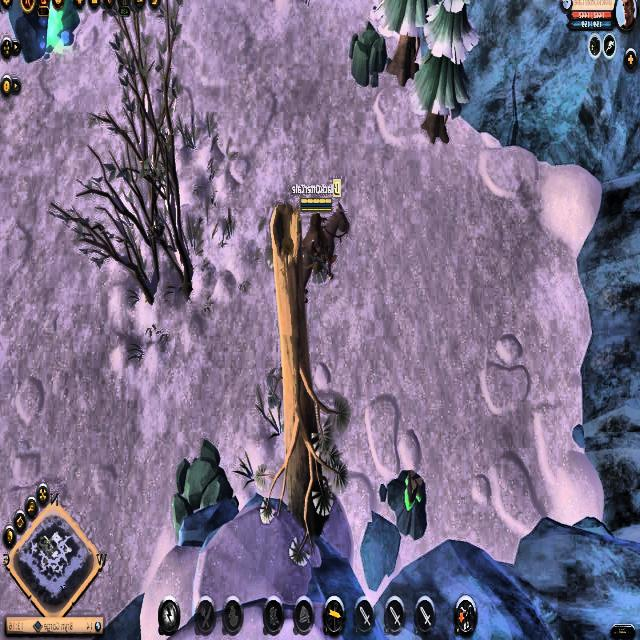sandstone: (169, 440, 239, 540), (350, 18, 388, 85)
tinore: (386, 466, 429, 540)
